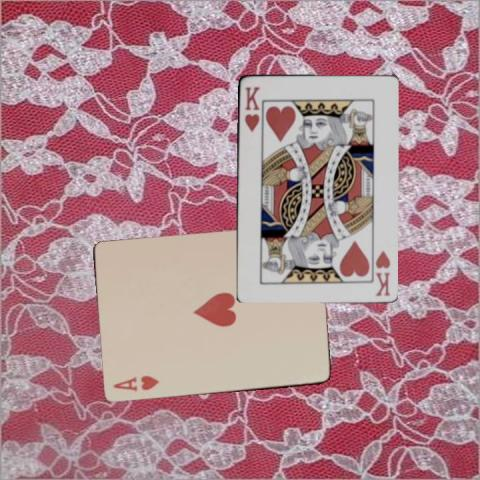Ah: (110, 374, 160, 394)
Kh: (241, 83, 261, 133), (372, 248, 391, 298)
